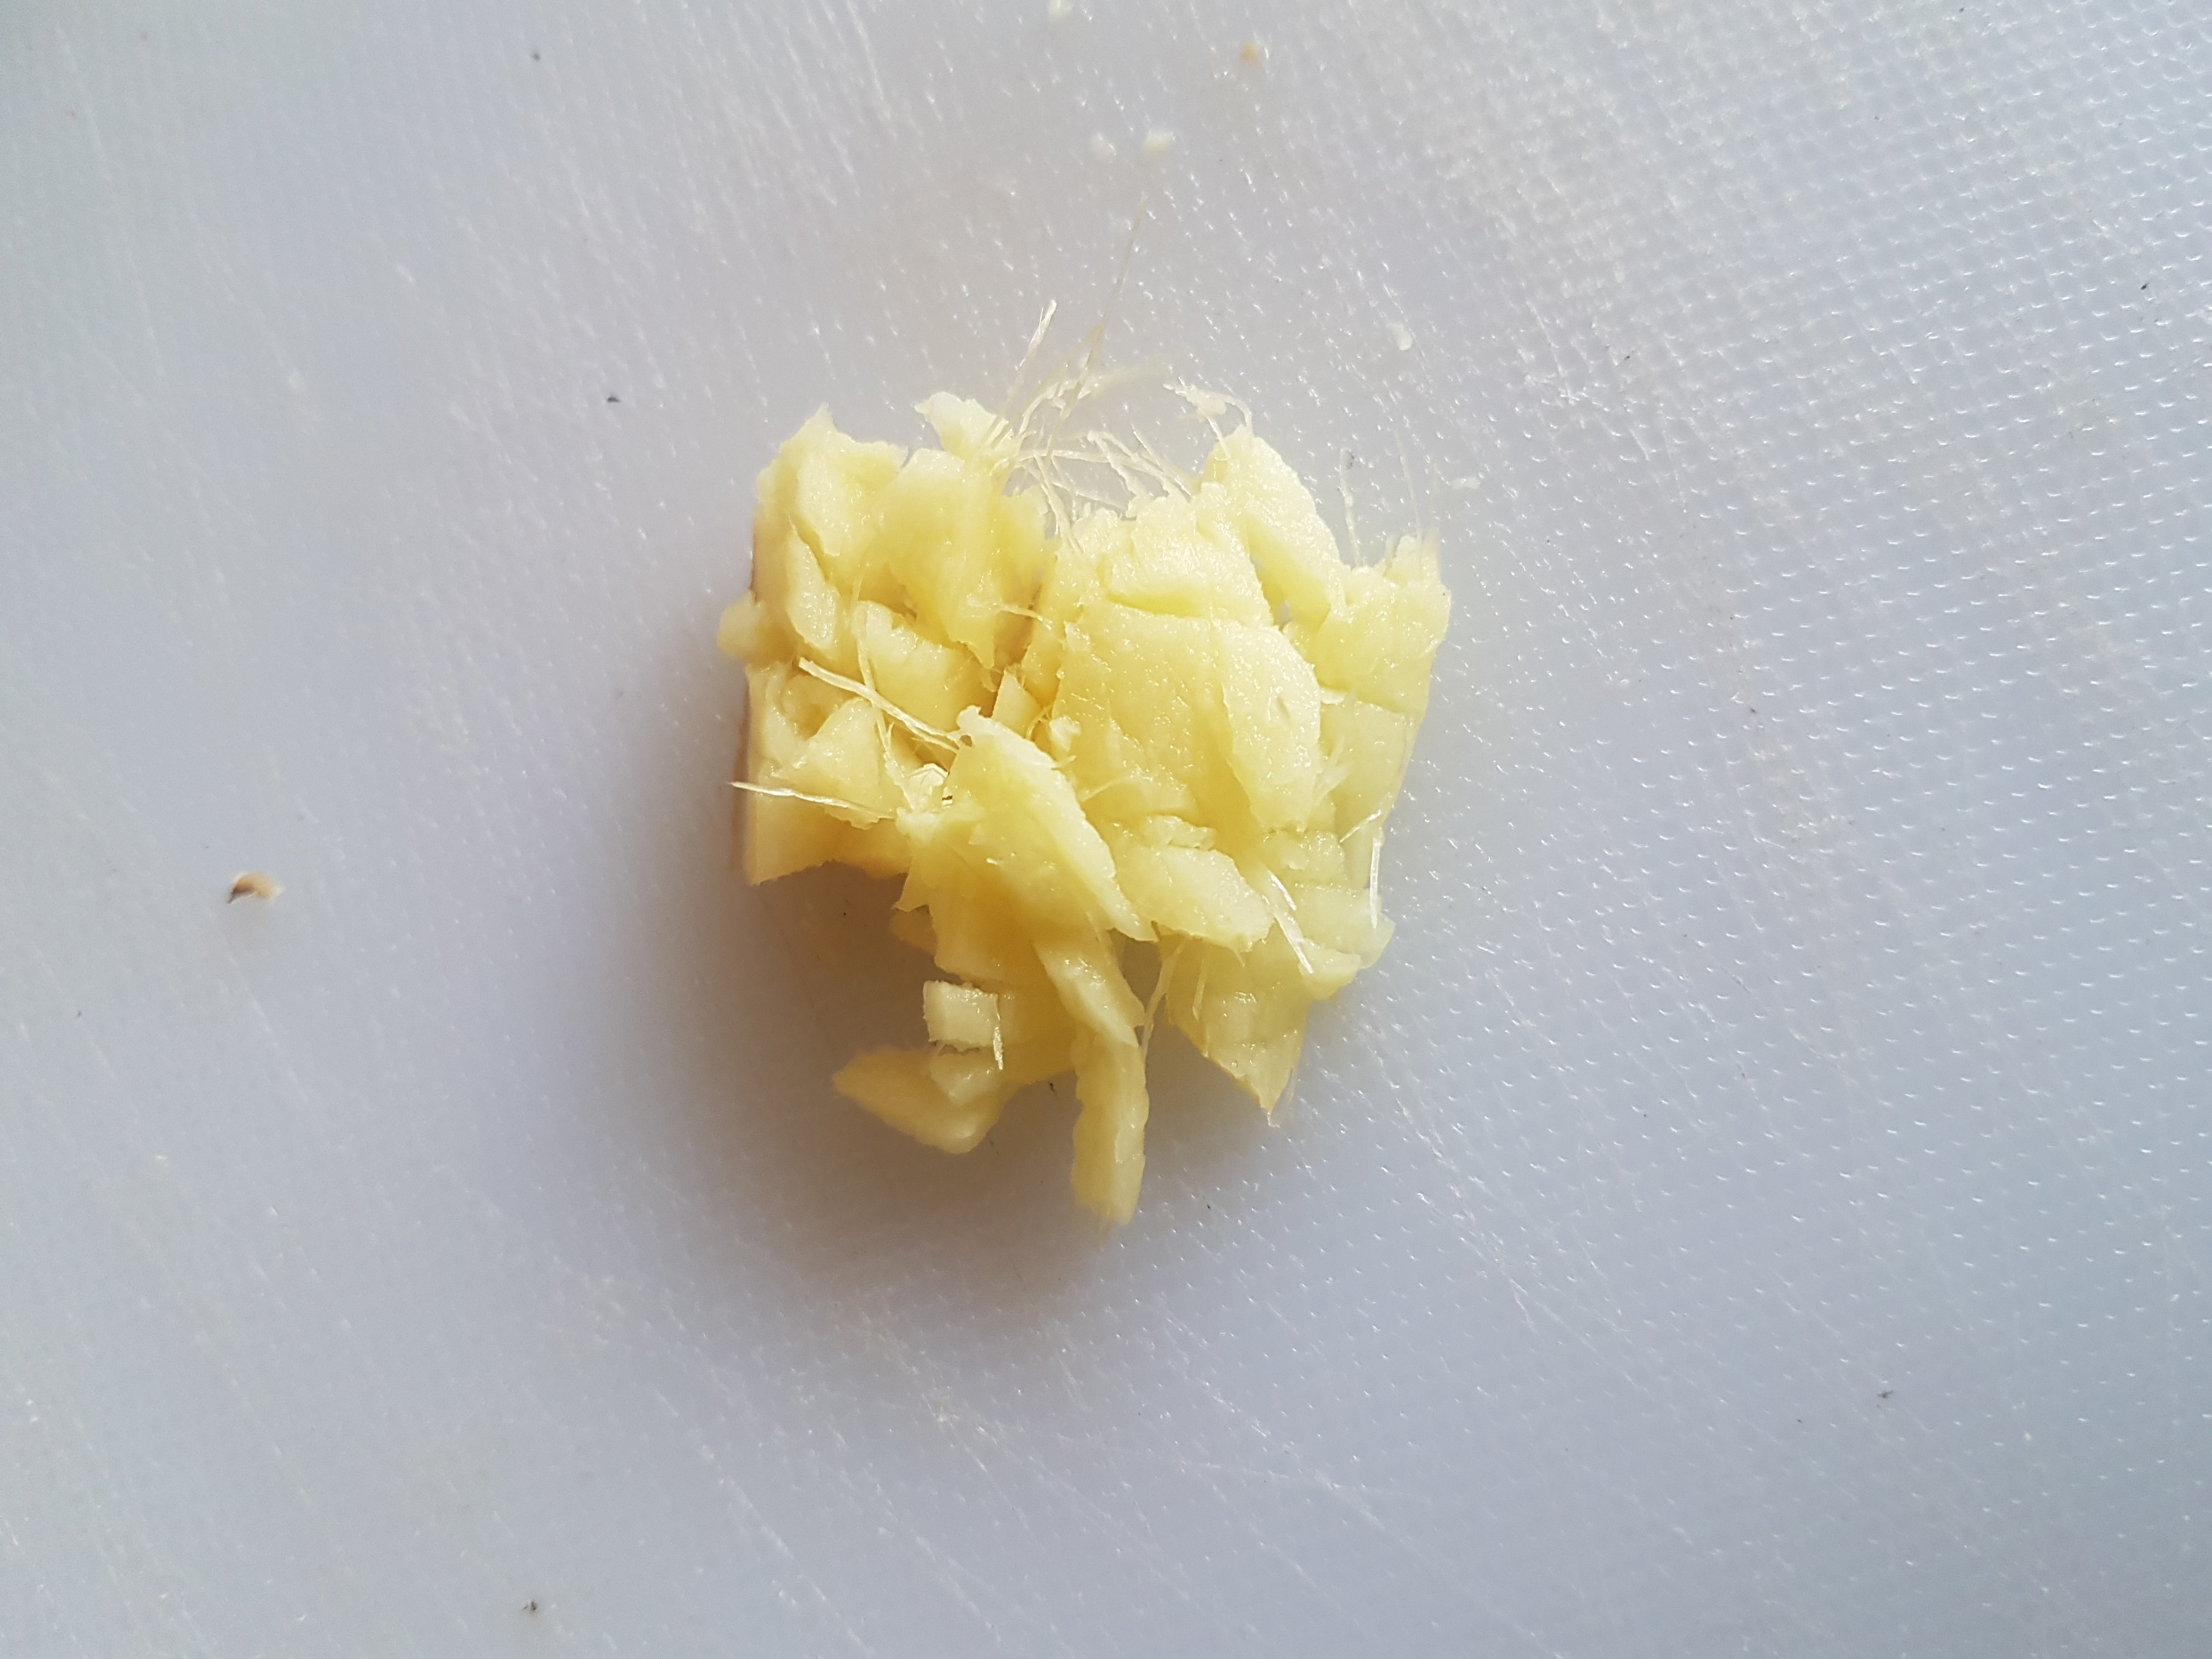Minced ginger: (712, 349, 1463, 1239)
